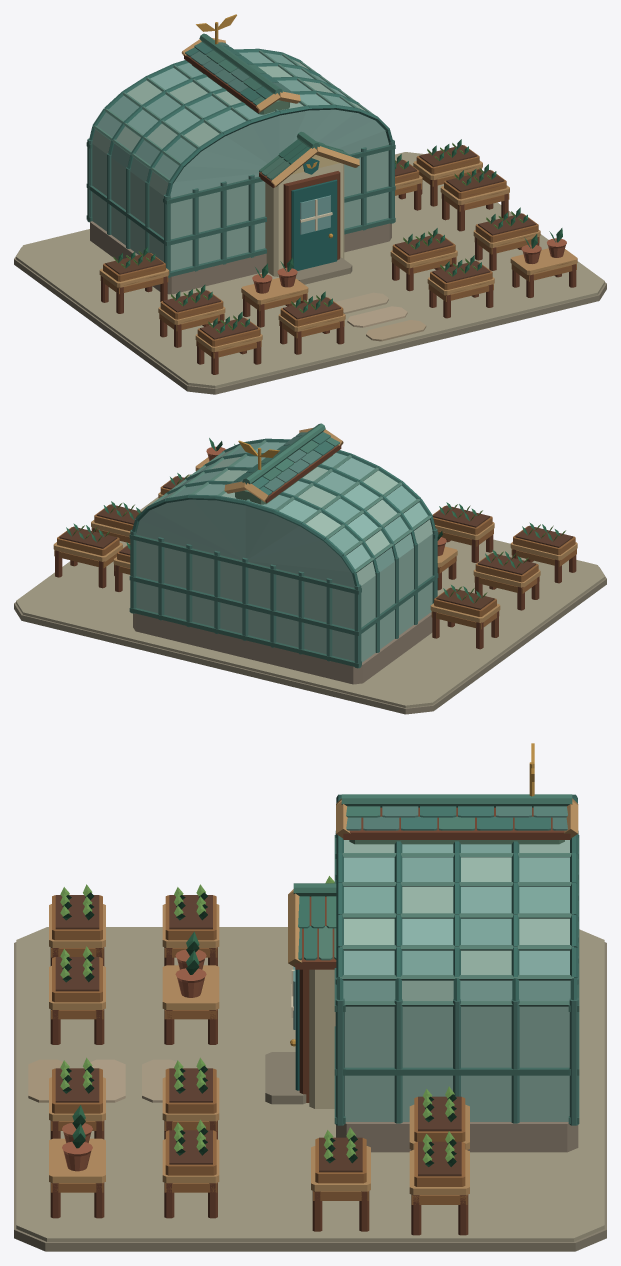
The picture shows the model from 3 angles, top to bottom: view 1: azimuth 30°, elevation 25°; view 2: azimuth 150°, elevation 25°; view 3: azimuth 270°, elevation 25°; orthographic projection. The views are drawn at different scales.
Visible parts, largest first — view 1: Base, Staff07, Staff09, Staff08, Staff10, Staff05, Staff06, Staff03, Staff04; view 2: Base, Staff03, Staff07, Staff09, Staff05; view 3: Base, Staff05, Staff08, Staff04, Staff09, Staff06, Staff07, Staff03, Staff10.
Boxes of the visible parts, x1=… form: Base: x1=14, y1=14, x2=606, y2=394; Staff07: x1=195, y1=311, x2=262, y2=374; Staff09: x1=278, y1=291, x2=345, y2=354; Staff08: x1=510, y1=228, x2=577, y2=297; Staff10: x1=427, y1=255, x2=494, y2=318; Staff05: x1=241, y1=257, x2=308, y2=327; Staff06: x1=390, y1=228, x2=457, y2=291; Staff03: x1=158, y1=284, x2=225, y2=347; Staff04: x1=473, y1=207, x2=540, y2=270; Base: x1=14, y1=423, x2=606, y2=714; Staff03: x1=473, y1=550, x2=540, y2=610; Staff07: x1=510, y1=522, x2=577, y2=583; Staff09: x1=432, y1=502, x2=494, y2=562; Staff05: x1=437, y1=531, x2=457, y2=590; Base: x1=14, y1=743, x2=606, y2=1251; Staff05: x1=162, y1=931, x2=219, y2=1044; Staff08: x1=49, y1=1105, x2=105, y2=1218; Staff04: x1=162, y1=1119, x2=219, y2=1218; Staff09: x1=49, y1=946, x2=105, y2=1044; Staff06: x1=162, y1=1057, x2=219, y2=1139; Staff07: x1=49, y1=884, x2=105, y2=965; Staff03: x1=162, y1=884, x2=219, y2=965; Staff10: x1=49, y1=1057, x2=105, y2=1139.
Bounding box in the file's own units: 9 × 4.29 × 7.2.
